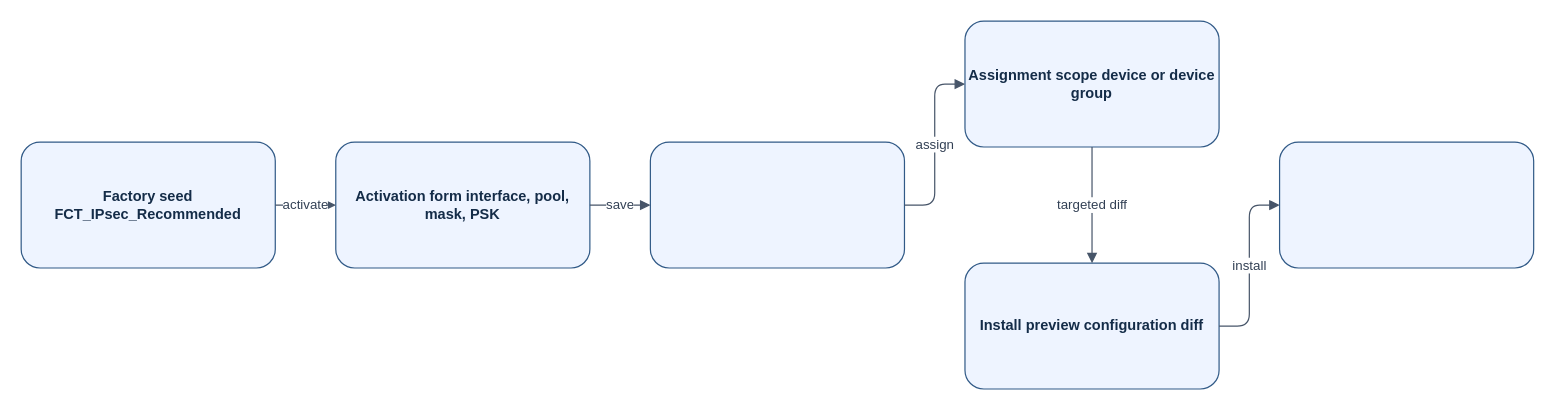
The diagram is 1555 pixels wide and 410 high, and some of its shapes have lost their labels. The box of each missing label's shape, as (x1, y1, x2, y2) in pixels:
Generated template editable site-specific object: (649, 141, 904, 268)
Managed FortiGate phase1 / phase2 objects: (1278, 141, 1534, 268)
